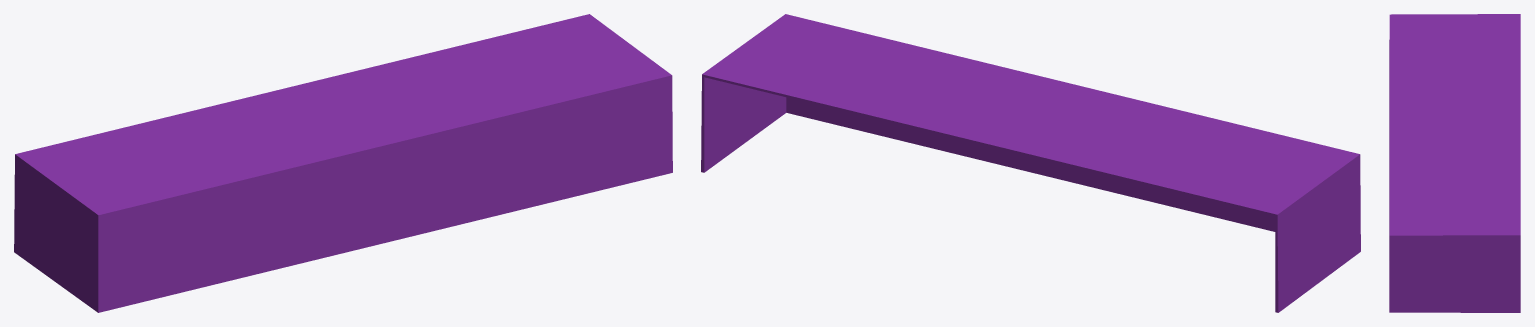
File: SM_storefront_screen_04.fbx
The picture shows the model from 3 angles, left to right: view 1: azimuth 30°, elevation 25°; view 2: azimuth 150°, elevation 25°; view 3: azimuth 270°, elevation 25°; orthographic projection. The views are drawn at different scales.
Parts seen in each view (by area): view 1: Box089; view 2: Box089; view 3: Box089.
Part boxes in pixels (x1,y1,x2,y2): Box089: [14, 14, 672, 312]; Box089: [701, 14, 1360, 312]; Box089: [1389, 14, 1520, 312].
Size of the model in its own units: 179 by 44.72 by 28.99.
